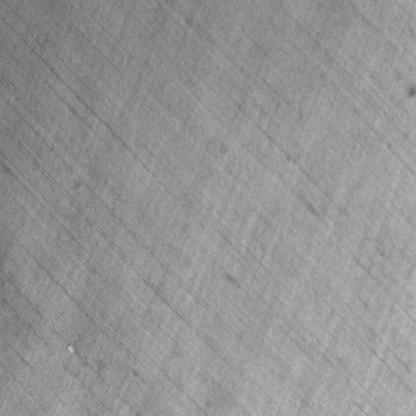hole: (67, 344, 75, 356)
